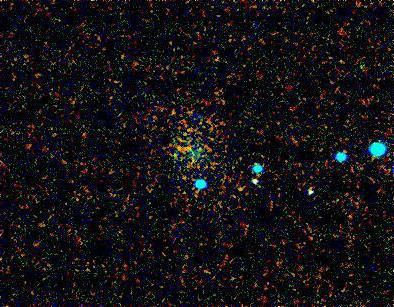star: (226, 176, 256, 206)
